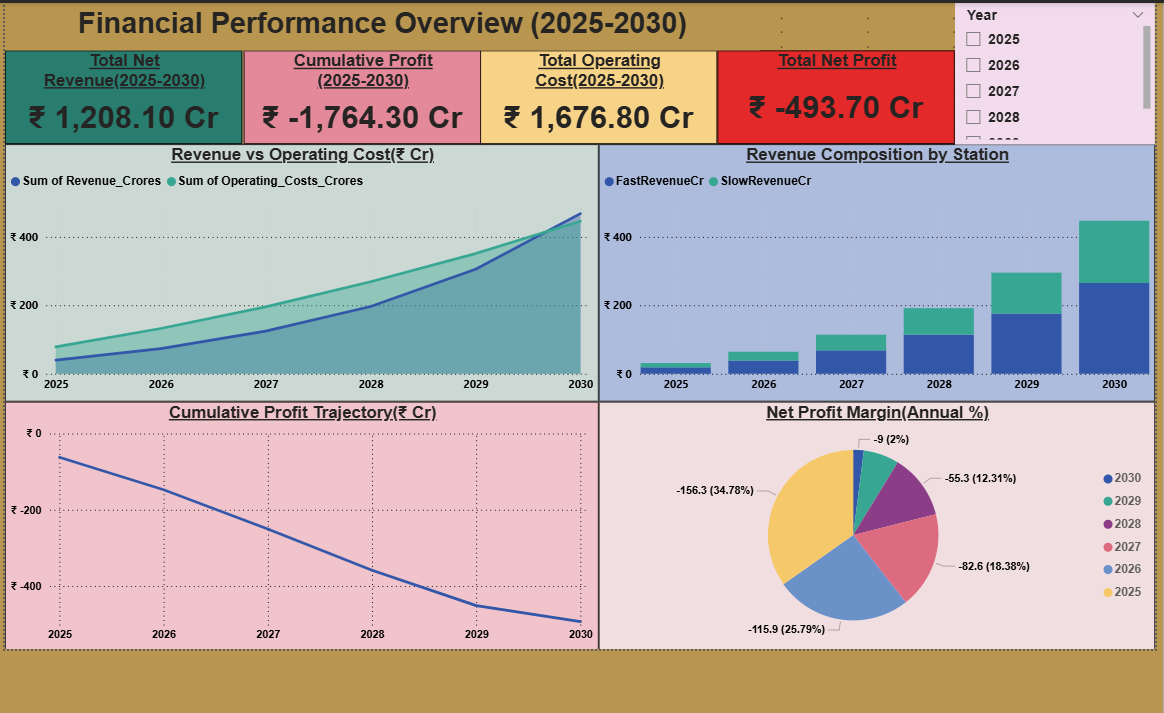

Layout of this report page (visuals, bound fields, positions):
{"tool":"powerbi","page":{"name":"Financial Opportunity","canvas":[1280,720],"ordinal":1},"visuals":[{"type":"lineChart","title":"Revenue vs Operating Cost(₹ Cr)","fields":{"Y":["Sum(Financial_Extended.Revenue_Crores)","Sum(Financial_Extended.Operating_Costs_Crores)"],"Category":["ProfitTbl.Year"]},"box":[0,157.2,660.9,286.6],"z":0},{"type":"card","title":"Total Net Revenue(2025-2030) ","fields":{"Values":["RevenueTbl.TotalNetRevenueFormatted"]},"box":[0,52.9,264.3,104.3],"z":1000},{"type":"card","title":"Total Operating Cost(2025-2030)","fields":{"Values":["Financial_Extended.TotalOperatingCostsFormatted"]},"box":[528.7,52.9,264.3,104.3],"z":2000},{"type":"card","title":"Cumulative Profit (2025-2030) ","fields":{"Values":["ProfitTbl.CumulativeProfitFormatted"]},"box":[265.7,52.9,264.3,104.3],"z":3000},{"type":"columnChart","title":"Revenue Composition by Station","fields":{"Category":["RevenueTbl.Year"],"Y":["RevenueTbl.FastRevenueCr","RevenueTbl.SlowRevenueCr"]},"box":[660.9,157.2,619.1,286.6],"z":4000},{"type":"pieChart","title":"Net Profit Margin(Annual %)","fields":{"Category":["ProfitTbl.Year"],"Y":["Sum(ProfitTbl.Profit_Margin_Percent)"]},"box":[660.9,443.8,619.1,276.9],"z":5000},{"type":"lineChart","title":"Cumulative Profit Trajectory(₹ Cr)","fields":{"Category":["ProfitTbl.Year"],"Y":["Sum(ProfitTbl.Cumulative_Profit_Crores)"]},"box":[0,443.8,660.9,276.9],"z":6000},{"type":"card","title":"Total Net Profit","fields":{"Values":["ProfitTbl.TotalNetProfitFormatted"]},"box":[793,52.9,264.3,104.3],"z":8000},{"type":"slicer","fields":{"Values":["ProfitTbl.Year"]},"box":[1057.4,0,222.6,157.2],"z":9000},{"type":"textbox","title":"Financial Performance Overview(2025-2030)","box":[0,0,840.3,52.9],"z":10000}]}

Visuals, with their boxes in screenshot pixels (x1, y1, x2, y2):
"Revenue vs Operating Cost(₹ Cr)" lineChart: <box>0,141,593,398</box>
"Total Net Revenue(2025-2030) " card: <box>0,47,237,141</box>
"Total Operating Cost(2025-2030)" card: <box>474,47,711,141</box>
"Cumulative Profit (2025-2030) " card: <box>238,47,475,141</box>
"Revenue Composition by Station" columnChart: <box>593,141,1148,398</box>
"Net Profit Margin(Annual %)" pieChart: <box>593,398,1148,646</box>
"Cumulative Profit Trajectory(₹ Cr)" lineChart: <box>0,398,593,646</box>
"Total Net Profit" card: <box>711,47,948,141</box>
slicer - ProfitTbl.Year: <box>948,0,1148,141</box>
"Financial Performance Overview(2025-2030)" textbox: <box>0,0,754,47</box>
